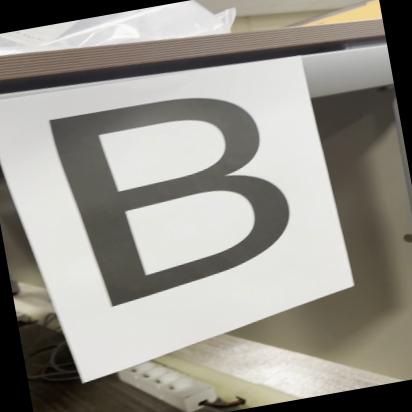seat: (30, 74, 314, 330)
